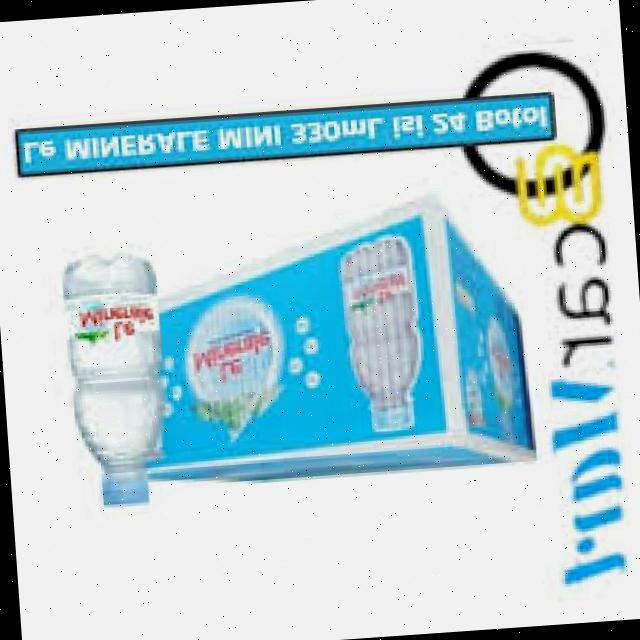bottle: (60, 248, 178, 508)
cap: (100, 474, 152, 512)
